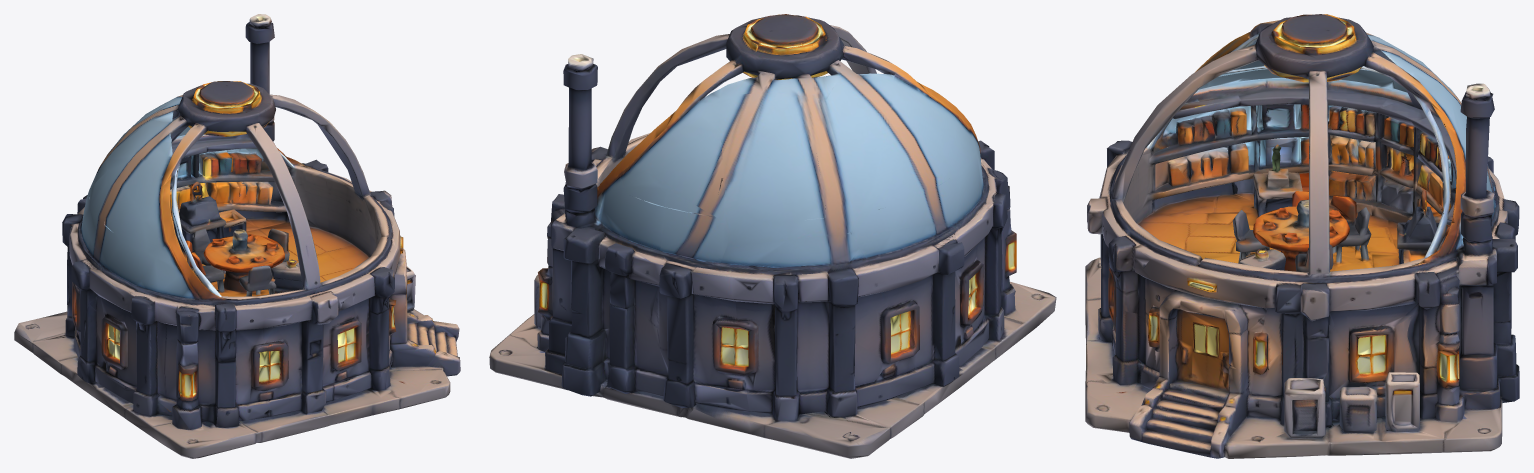
Rendered from library_dome.glb.
3 views of the same model, side by side, from view 1: azimuth 30°, elevation 25°; view 2: azimuth 150°, elevation 25°; view 3: azimuth 270°, elevation 25° (orthographic). The views are drawn at different scales.
Size of the model in its own units: 4.88 by 3.69 by 4.48.
1 material, 1 textured.
